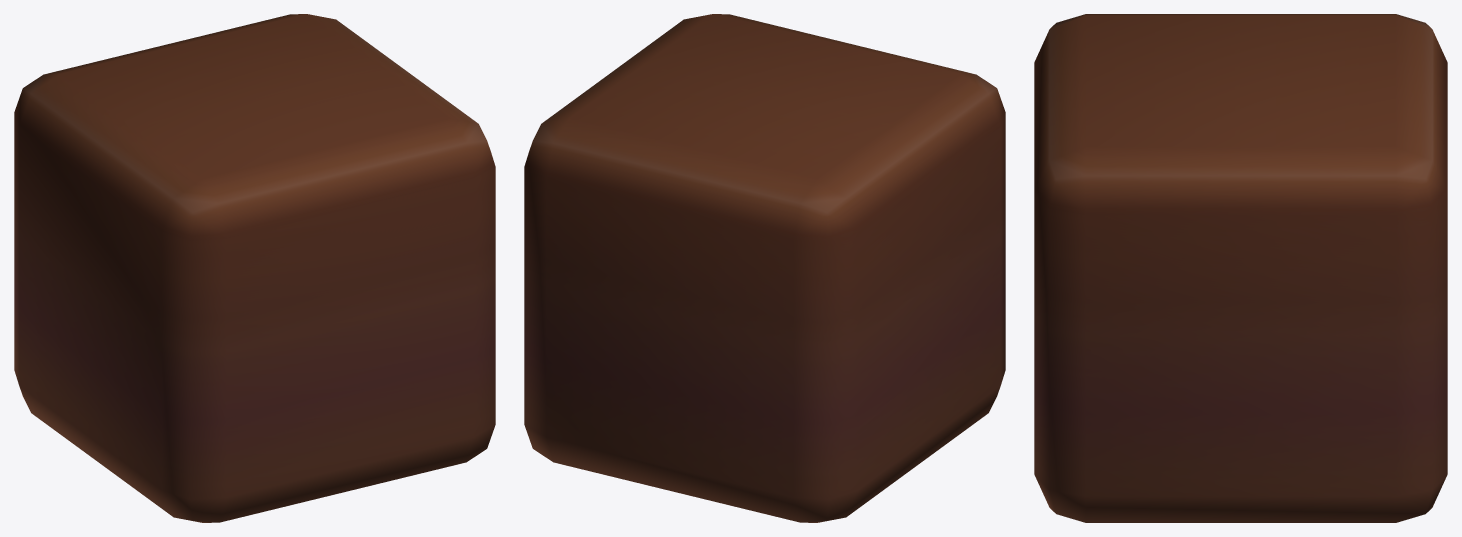
File: block_metal_2_0.fbx
The picture shows the model from 3 angles, left to right: view 1: azimuth 30°, elevation 25°; view 2: azimuth 150°, elevation 25°; view 3: azimuth 270°, elevation 25°; orthographic projection. The views are drawn at different scales.
Visible parts, largest first — view 1: block_metal_2_0; view 2: block_metal_2_0; view 3: block_metal_2_0.
Part boxes in pixels (<box>): block_metal_2_0: <box>14,14,495,522</box>; block_metal_2_0: <box>524,14,1005,522</box>; block_metal_2_0: <box>1034,14,1447,522</box>.
Size of the model in its own units: 200 by 200 by 200.
